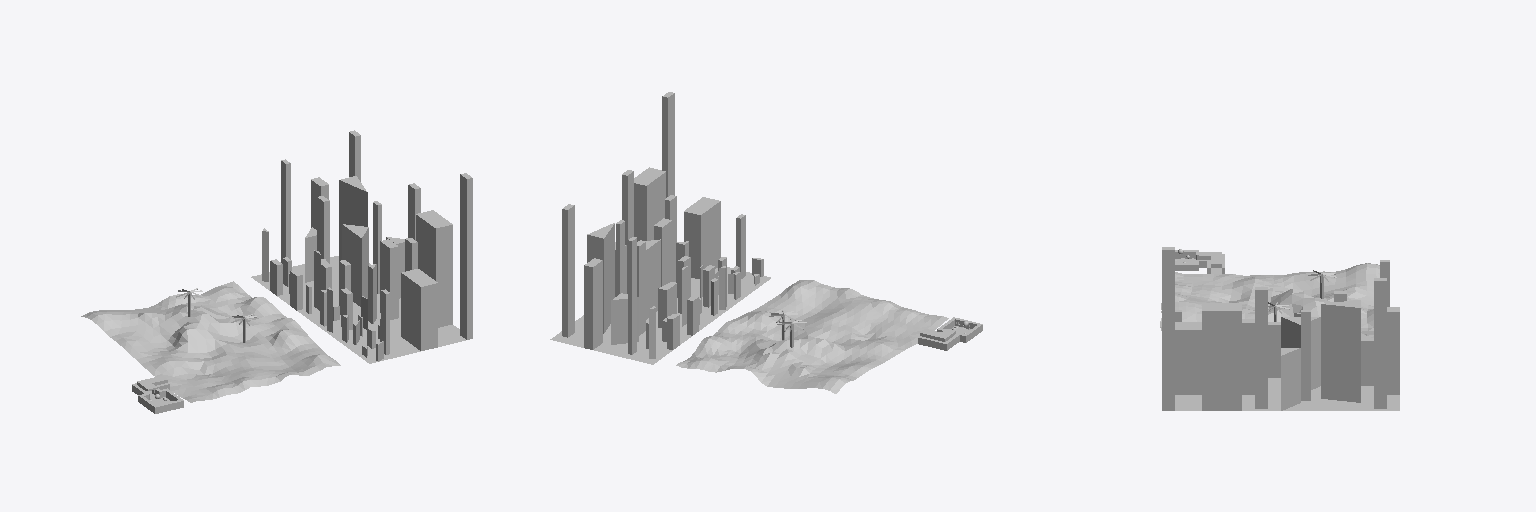
The model's file is detailedRoom.obj.
3 renders of one model, left to right at view 1: azimuth 30°, elevation 25°; view 2: azimuth 150°, elevation 25°; view 3: azimuth 270°, elevation 25°, orthographic.
Visible parts, largest first — view 1: Plane.035, Plane.005; view 2: Plane.035, Plane.005; view 3: Plane.035, Plane.005.
Boxes of the visible parts, x1,y1,x2,y2 form: Plane.035: [251, 130, 472, 363]; Plane.005: [81, 281, 340, 402]; Plane.035: [550, 92, 770, 364]; Plane.005: [676, 280, 948, 393]; Plane.035: [1162, 247, 1399, 410]; Plane.005: [1160, 263, 1379, 337].
Size of the model in its own units: 98 by 49.17 by 64.67.